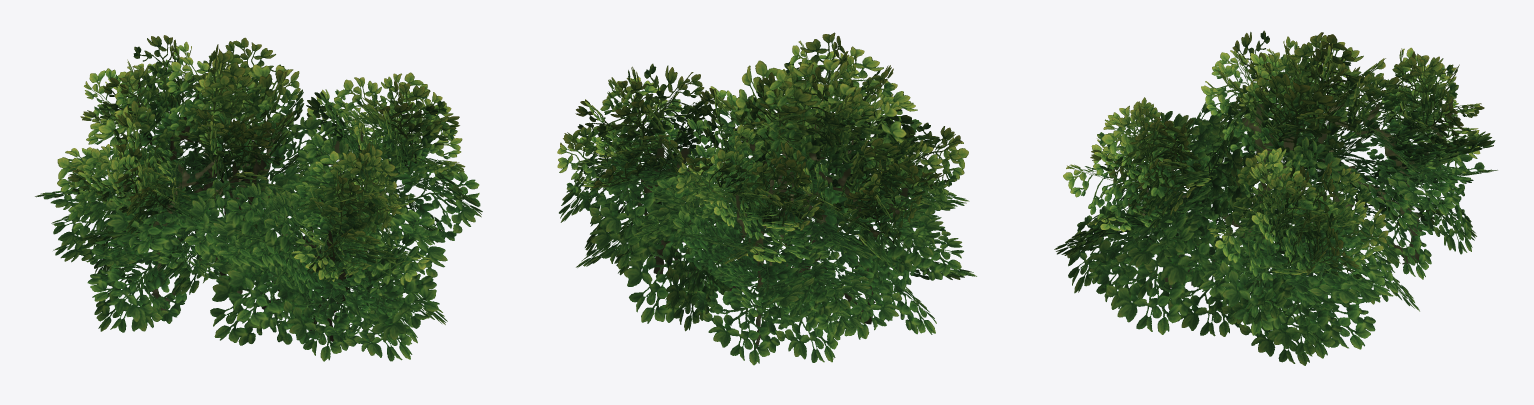
File: wm_灌木大灌木02.fbx
The picture shows the model from 3 angles, left to right: view 1: azimuth 30°, elevation 25°; view 2: azimuth 150°, elevation 25°; view 3: azimuth 270°, elevation 25°; orthographic projection. The views are drawn at different scales.
Parts seen in each view (by area): view 1: wm_灌木大灌木02; view 2: wm_灌木大灌木02; view 3: wm_灌木大灌木02.
Boxes of the visible parts, box(x1,y1,x2,y2) form: wm_灌木大灌木02: box(35, 35, 482, 361); wm_灌木大灌木02: box(557, 32, 976, 365); wm_灌木大灌木02: box(1054, 30, 1497, 365).
Size of the model in its own units: 266 by 176 by 266.
